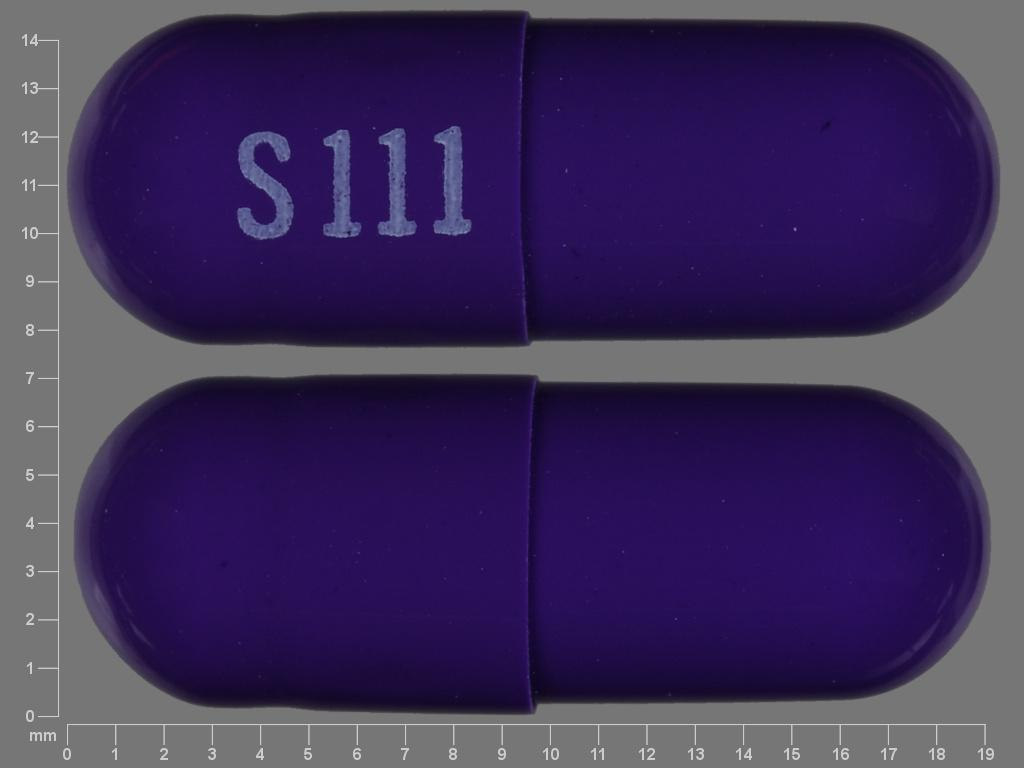Pill: (61, 0, 1008, 358), (63, 365, 999, 722)
